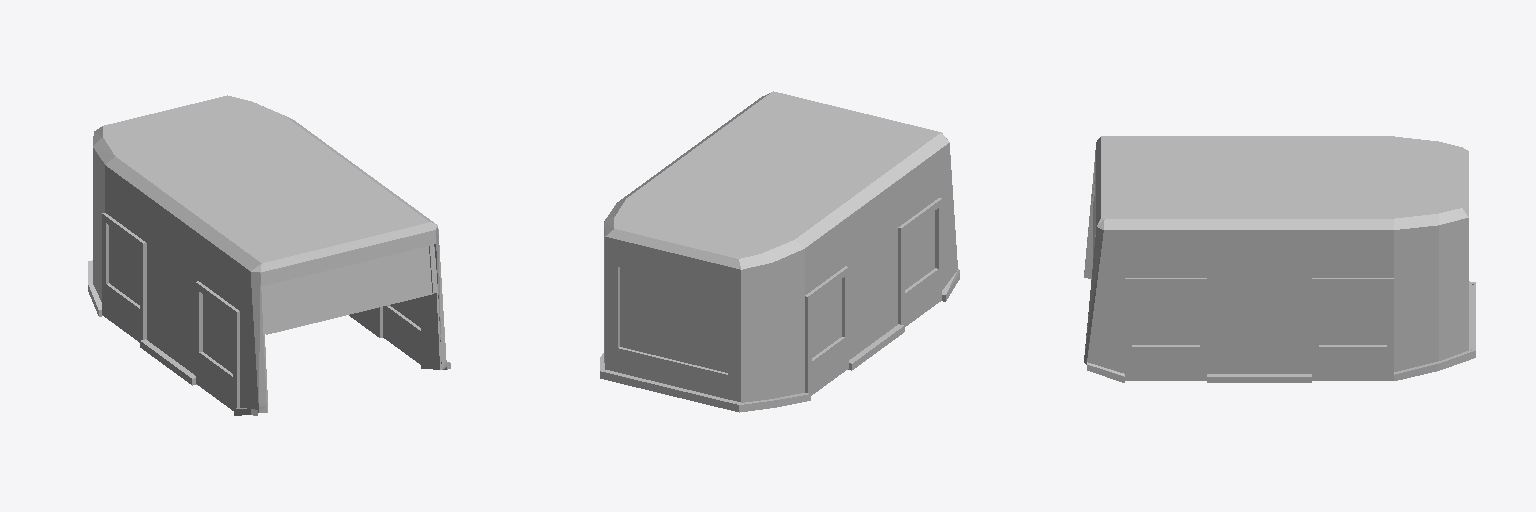
The model's file is modeltroof-sedan.obj.
The picture shows the model from 3 angles: view 1: azimuth 30°, elevation 25°; view 2: azimuth 150°, elevation 25°; view 3: azimuth 270°, elevation 25°; orthographic projection.
Parts seen in each view (by area): view 1: modeltroof-sedan, Window8, Window5, Window4; view 2: modeltroof-sedan, Window7_Window6, Window4, Window5; view 3: modeltroof-sedan, Window2_modeltroof-sedan.005, Window3.
Boxes of the visible parts, box(x1,y1,x2,y2) form: modeltroof-sedan: box(88, 95, 450, 415); Window8: box(265, 246, 433, 334); Window5: box(109, 226, 139, 304); Window4: box(203, 294, 232, 373); modeltroof-sedan: box(600, 91, 959, 412); Window7_Window6: box(620, 267, 727, 372); Window4: box(905, 211, 934, 289); Window5: box(812, 279, 841, 357); modeltroof-sedan: box(1084, 136, 1475, 382); Window2_modeltroof-sedan.005: box(1132, 286, 1199, 344); Window3: box(1319, 286, 1386, 344).
Size of the model in its own units: 1.93 by 1.45 by 3.28.